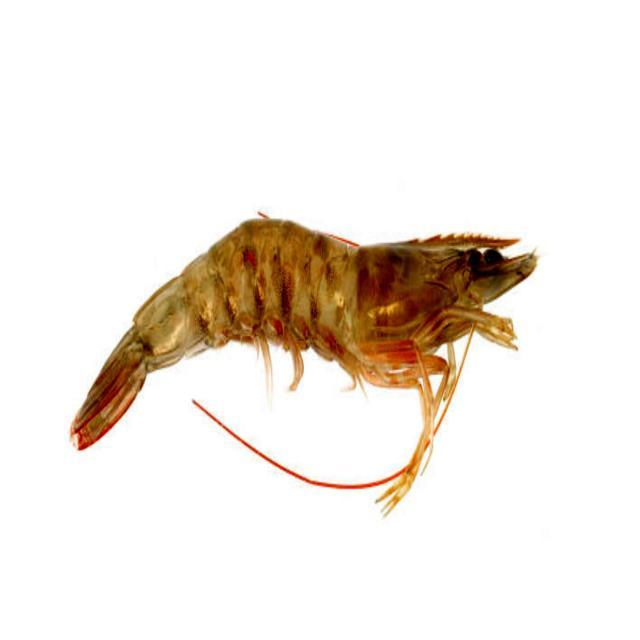shrimp: (71, 221, 537, 511)
